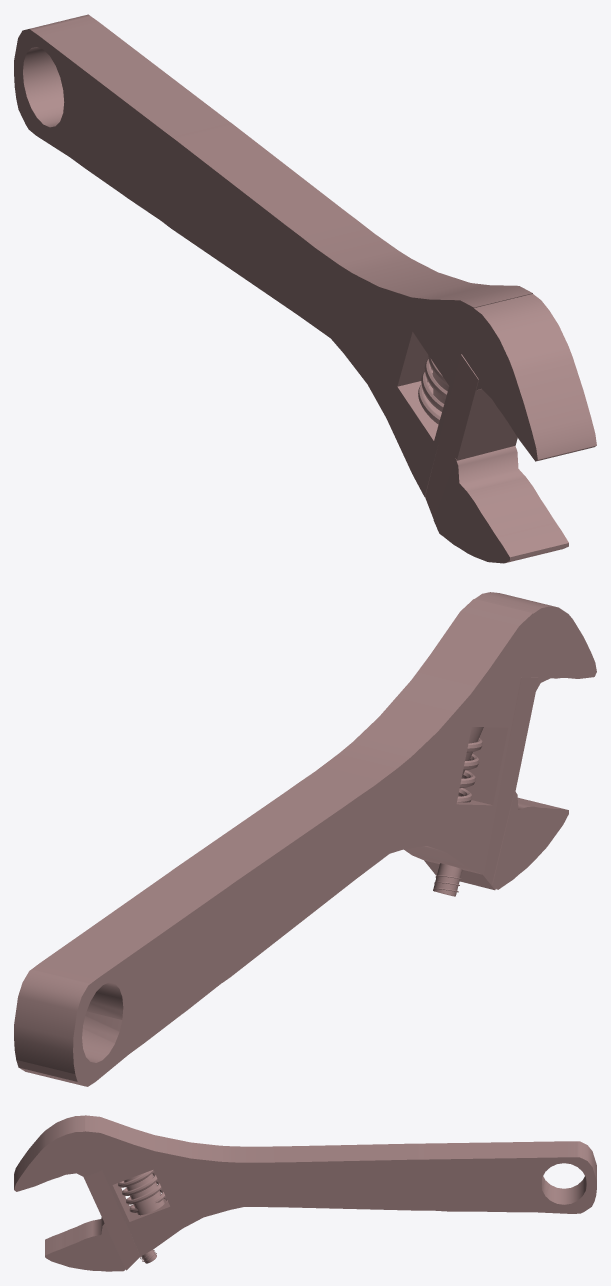
Rendered from wrench.fbx.
3 renders of one model, top to bottom at view 1: azimuth 30°, elevation 25°; view 2: azimuth 150°, elevation 25°; view 3: azimuth 270°, elevation 25°, orthographic. The views are drawn at different scales.
Parts seen in each view (by area): view 1: pCube8; view 2: pCube8; view 3: pCube8.
Part boxes in pixels (<box>): pCube8: <box>14,14,596,563</box>; pCube8: <box>14,592,596,1086</box>; pCube8: <box>14,1115,596,1271</box>.
Bounding box in the file's own units: 0.638 × 2.52 × 9.5.
